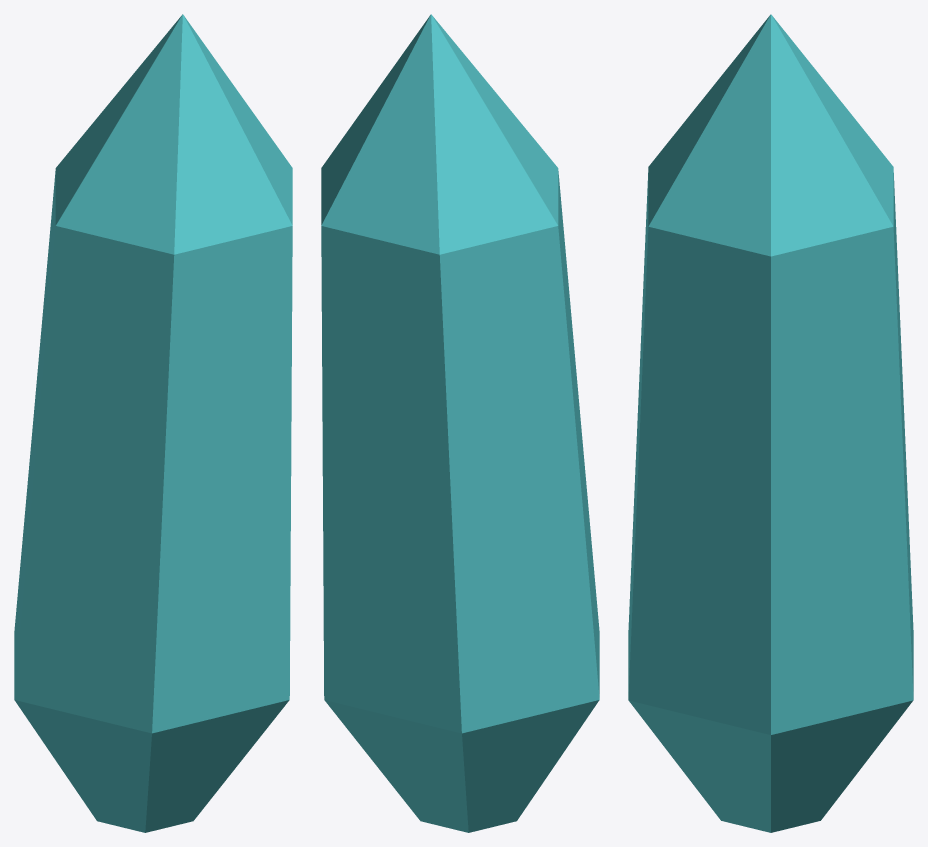
Rendered from ChargedCrystal.glb.
3 renders of one model, left to right at view 1: azimuth 30°, elevation 25°; view 2: azimuth 150°, elevation 25°; view 3: azimuth 270°, elevation 25°, orthographic. The views are drawn at different scales.
Parts seen in each view (by area): view 1: ChargedCrystal__Body; view 2: ChargedCrystal__Body; view 3: ChargedCrystal__Body.
Part boxes in pixels (x1,y1,x2,y2): ChargedCrystal__Body: (14, 14, 292, 832); ChargedCrystal__Body: (321, 14, 599, 832); ChargedCrystal__Body: (628, 14, 913, 832).
Bounding box in the file's own units: 0.9337 × 2.52 × 0.8002.
1 material, 1 textured.
